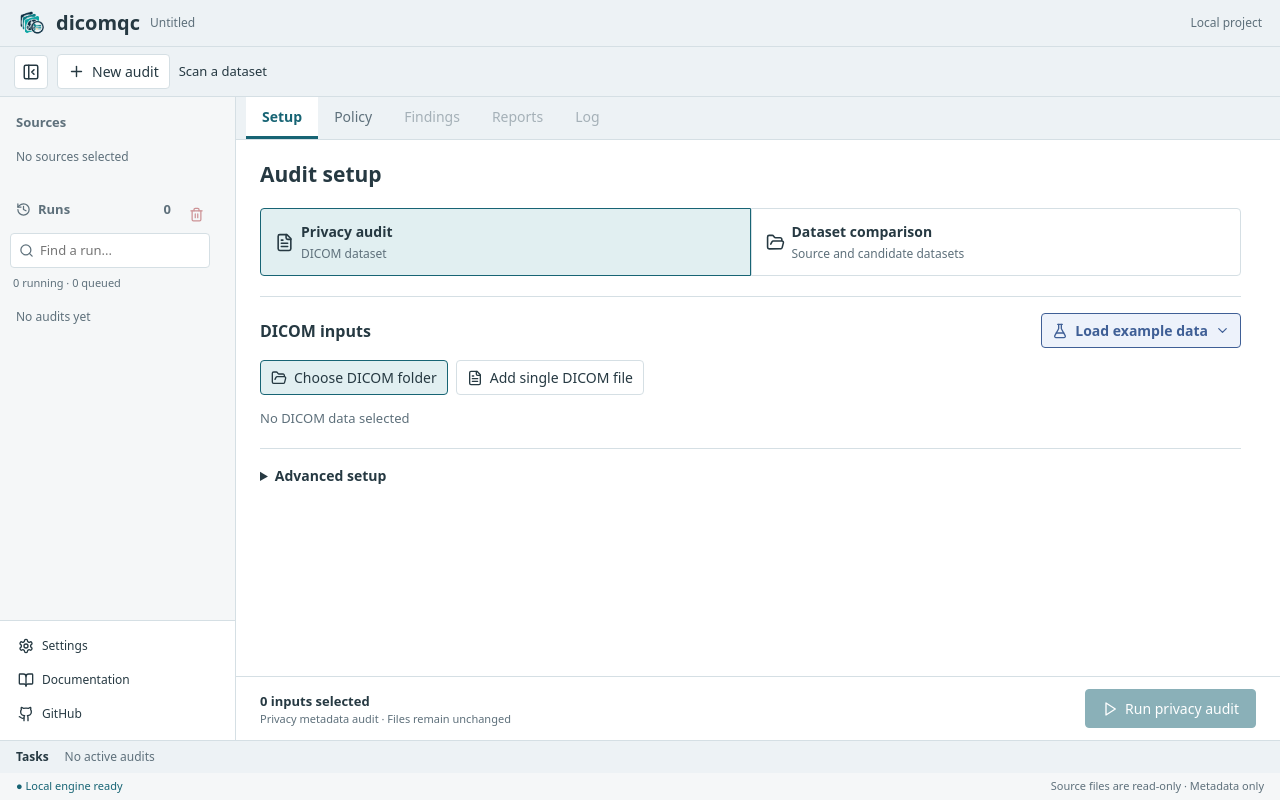
audit forms › displays native failures and allows dismissal
Expected: the text "● Local engine ready" is shown, x1=16 y1=778 x2=123 y2=795
Click the button "Add single DICOM file" at x=550, y=378, box x1=456 y1=360 x2=644 y2=395
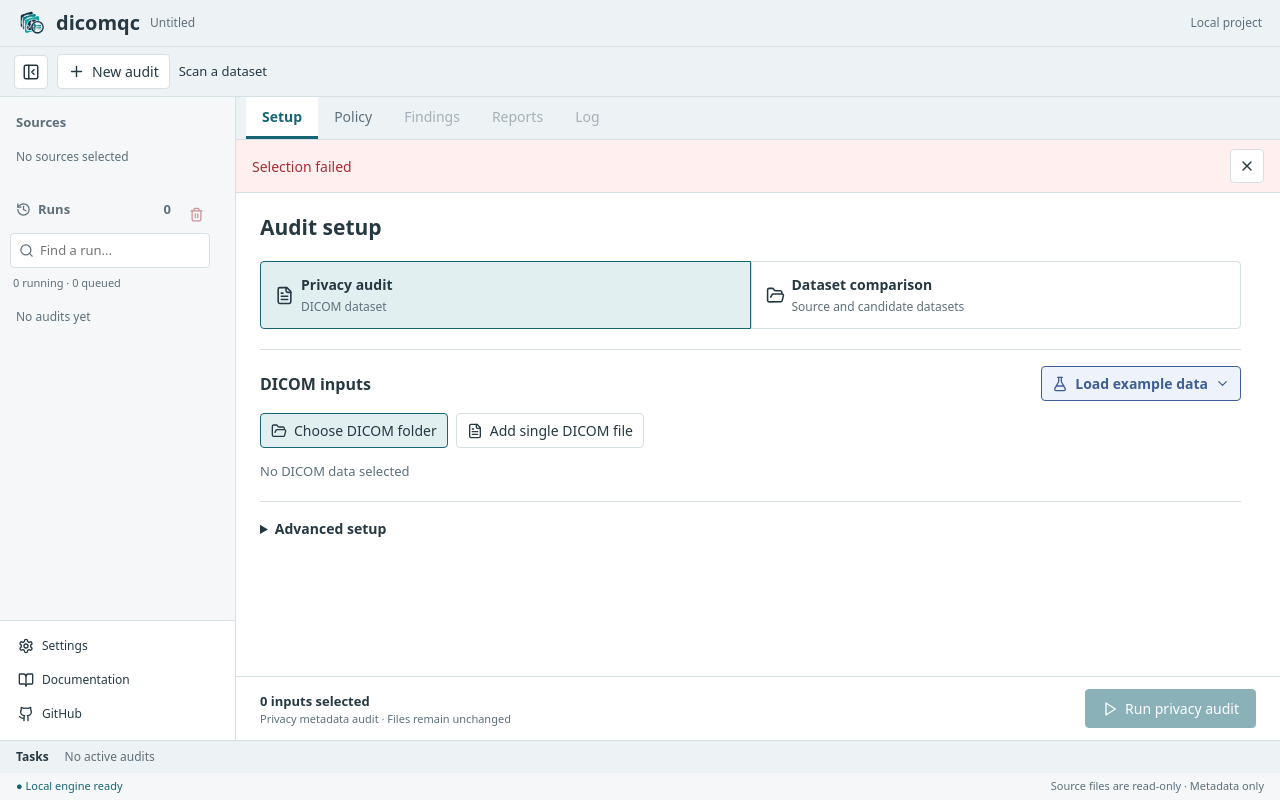
Expected: the message reads "Selection failed", x1=252 y1=156 x2=352 y2=176
Click the button named "Dismiss error" at x=1247, y=166, box x1=1230 y1=149 x2=1264 y2=183
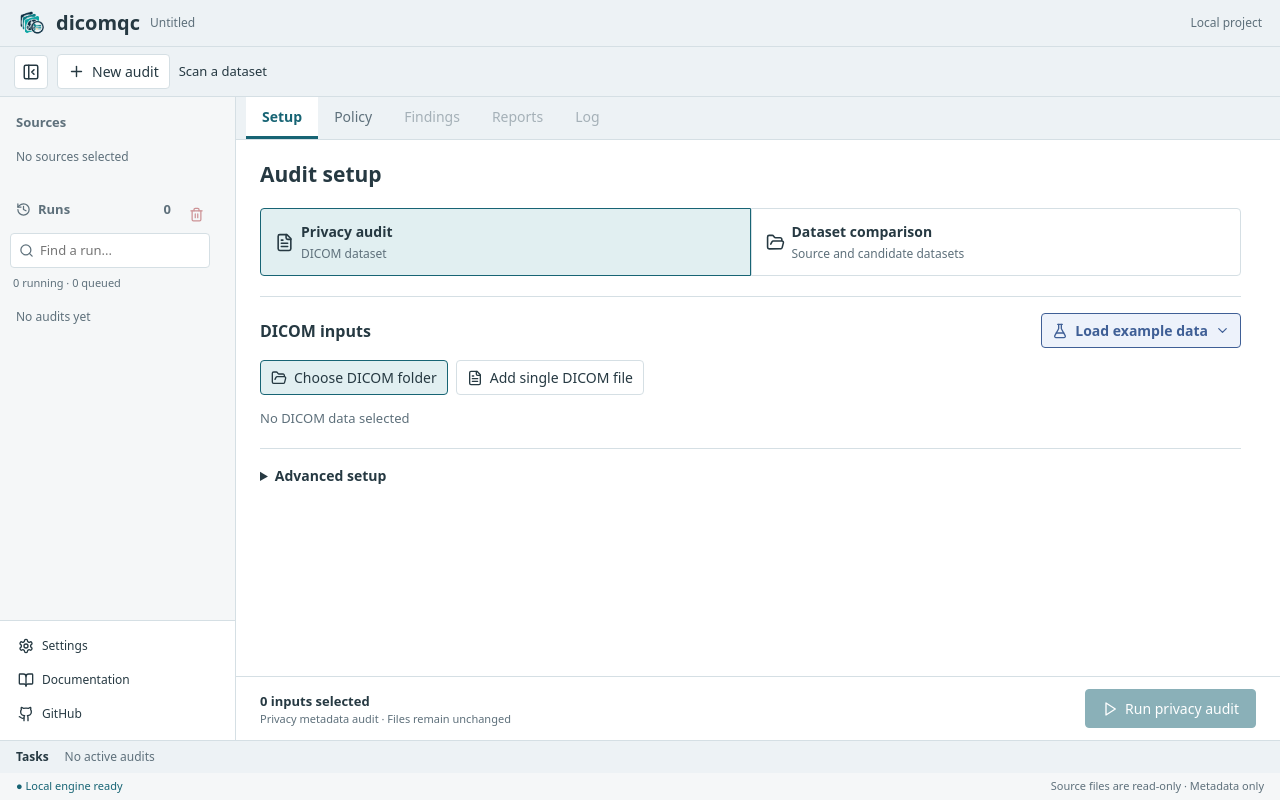
Expected: the message "Selection failed" is gone
